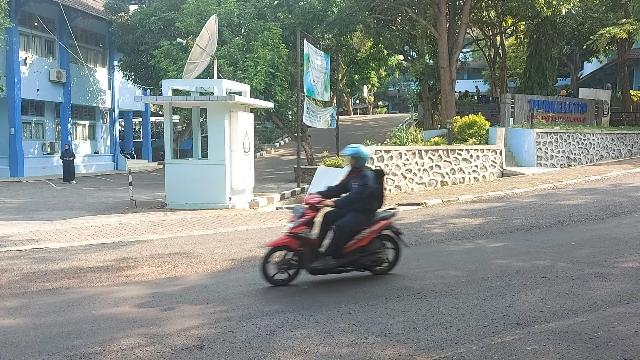helm: (341, 145, 370, 169)
motor: (264, 193, 411, 289)
